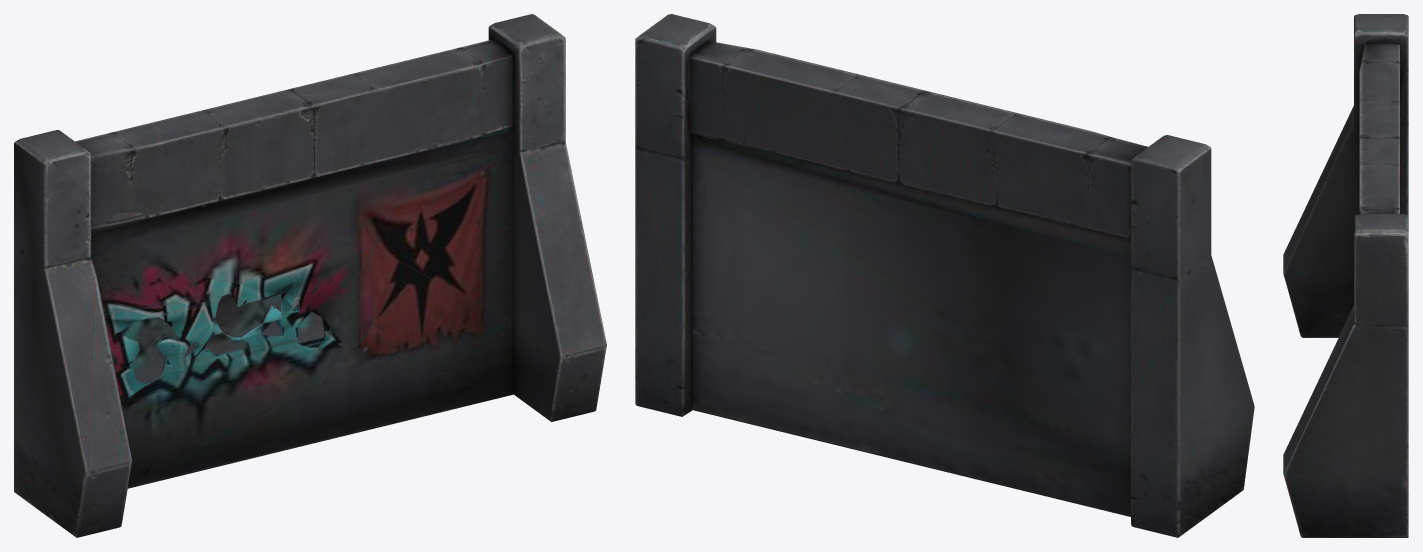
File: wall.glb
The picture shows the model from 3 angles, left to right: view 1: azimuth 30°, elevation 25°; view 2: azimuth 150°, elevation 25°; view 3: azimuth 270°, elevation 25°; orthographic projection. The views are drawn at different scales.
Bounding box in the file's own units: 1.91 × 1.24 × 0.4579.
1 material, 1 textured.
